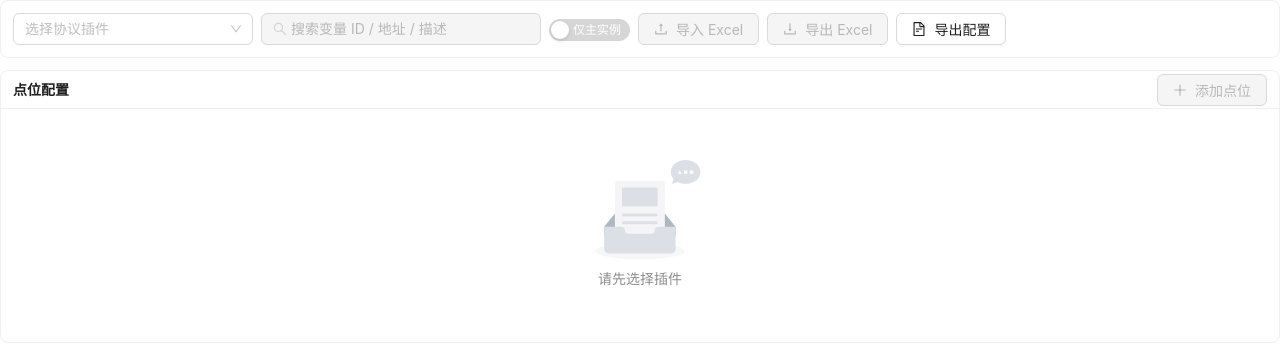
Scenario: Points 页面 › 点位加载失败提示错误
This screenshot has width=1280, height=360.
Click the dropdown at (124, 29), box [25,14,223,44]
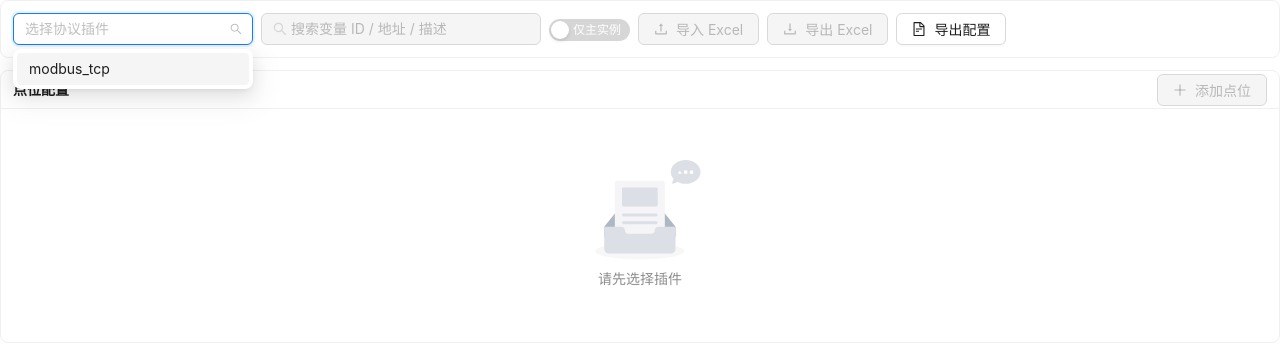
Click the text "modbus_tcp" at (69, 68), box [29,60,110,77]
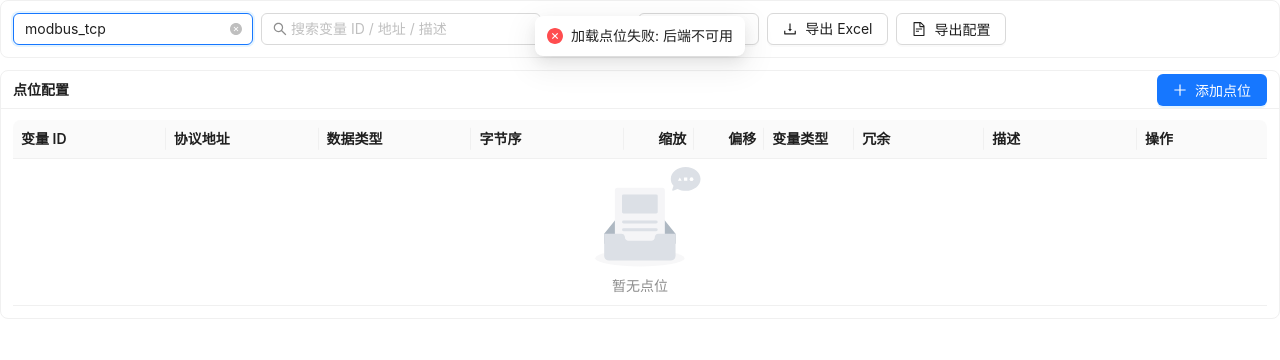
expect the text "加载点位失败: 后端不可用" is shown: met, box [571,25,733,47]
